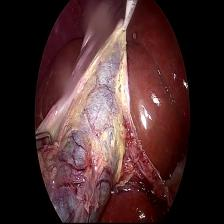Grasper: (34, 130, 54, 154)
Hook: (121, 0, 137, 36)
